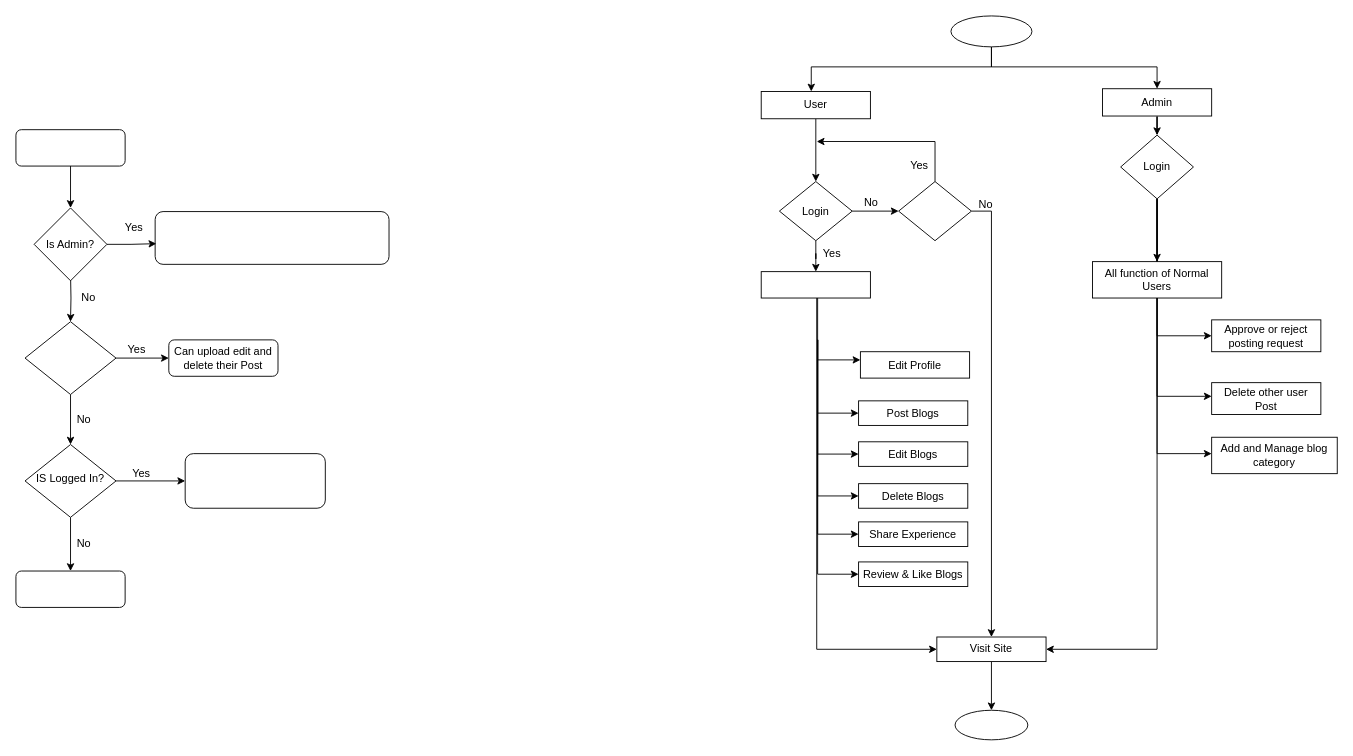
Image size: 1353x756. Some labels were removed from this diagram. The box of each missing label's shape, as (x1, y1, x2, y2) in pixels:
Can acess every Post and delete post. Cannot Edit others post: (154, 211, 389, 264)
DashBoard: (760, 271, 870, 298)
End: (954, 709, 1028, 740)
IS Author?: (24, 321, 116, 394)
Only allowed to review Blogs, Share expirence and like: (184, 453, 325, 508)
Register: (898, 181, 971, 241)
Site Entry: (15, 129, 125, 166)
Start: (950, 15, 1032, 47)
View Mode: (15, 570, 125, 607)
